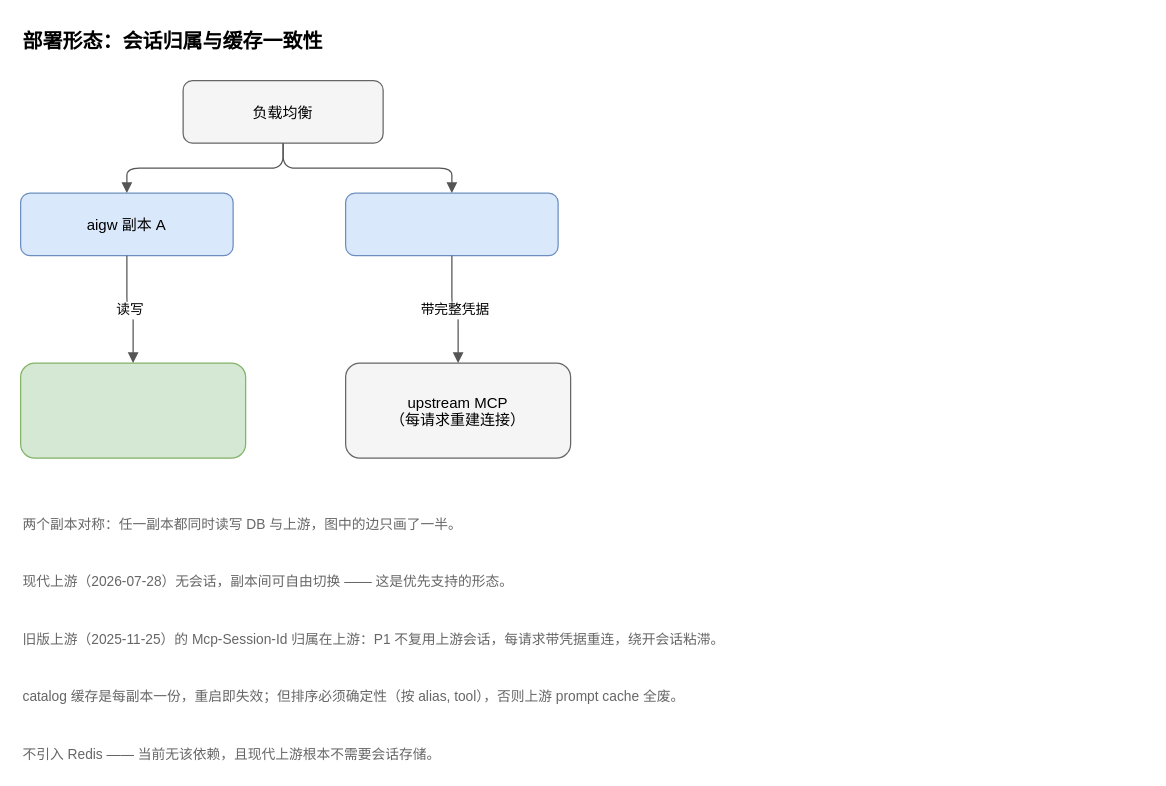
Image size: 1166x786. Some labels were removed from this diagram. The shapes that lost their labels are listed below. From the top down, each one's box as (x1, y1, x2, y2) in pixels, then its label:
(344, 192, 558, 256): aigw 副本 B
(19, 362, 246, 458): 共享 DB mcp_servers / catalog / call_log
